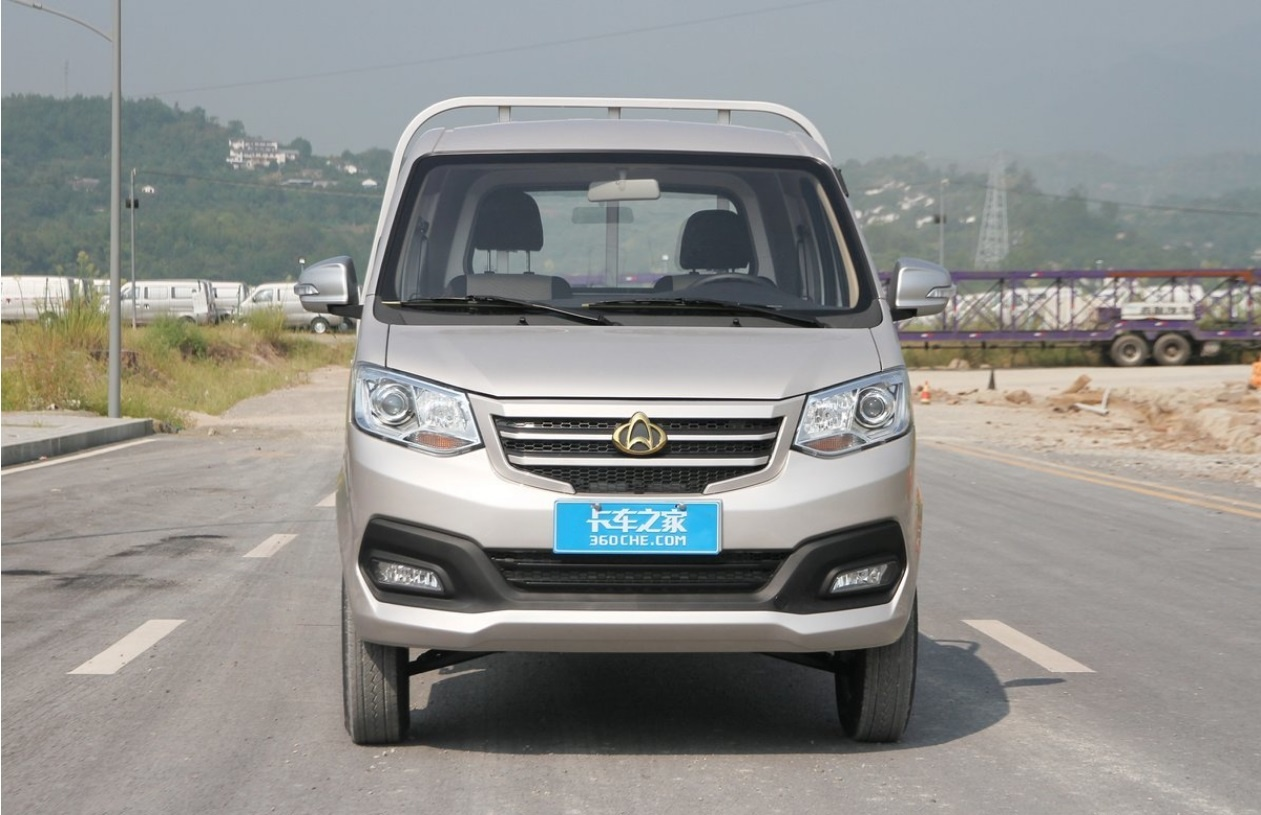minibus: (302, 82, 951, 752)
